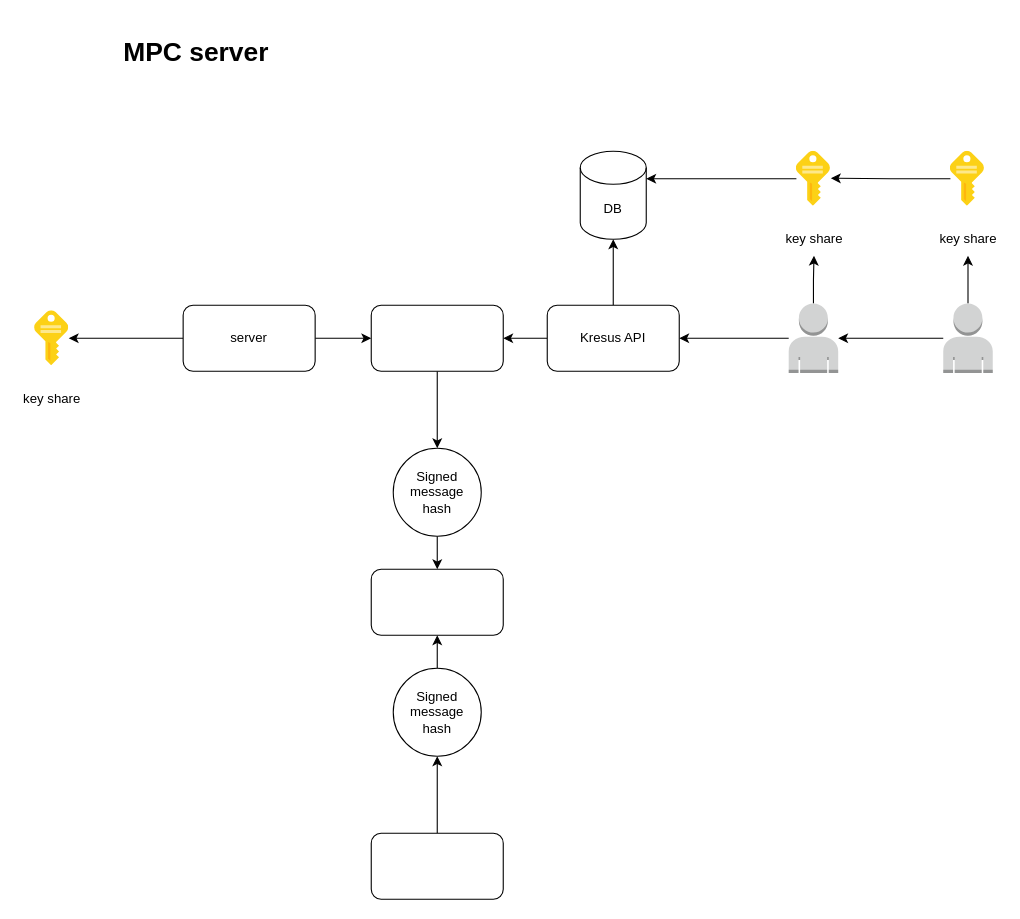
This 1020x919 diagram has some shape labels left out. The box of each missing label's shape, as (x1, y1, x2, y2) in pixels:
Owner magic wallet: (370, 832, 503, 899)
Thushold: (370, 304, 503, 371)
Vault contract: (370, 568, 503, 635)
